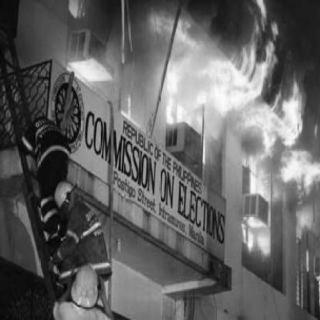Fire: (68, 0, 90, 22)
